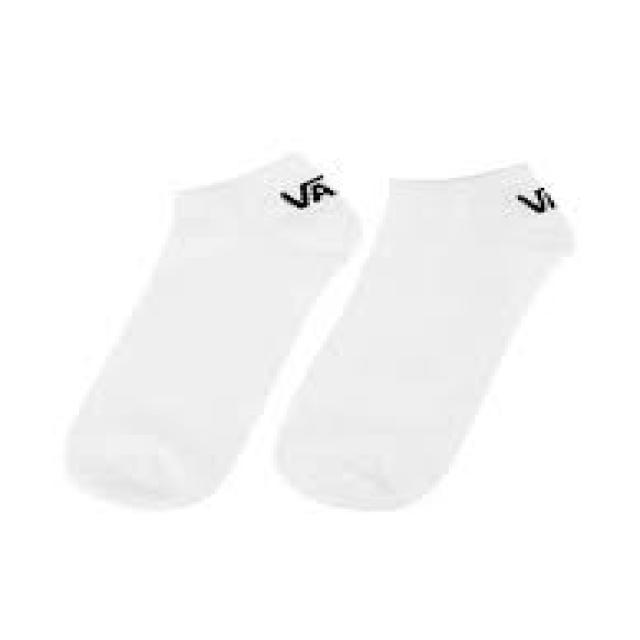sock: (63, 148, 363, 509), (271, 158, 574, 512)
